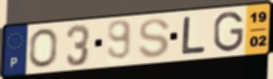3: (65, 23, 92, 68)
9: (106, 19, 133, 65)
G: (212, 10, 245, 54)
L: (179, 15, 207, 56)
O: (28, 27, 59, 69)
S: (137, 17, 172, 60)
